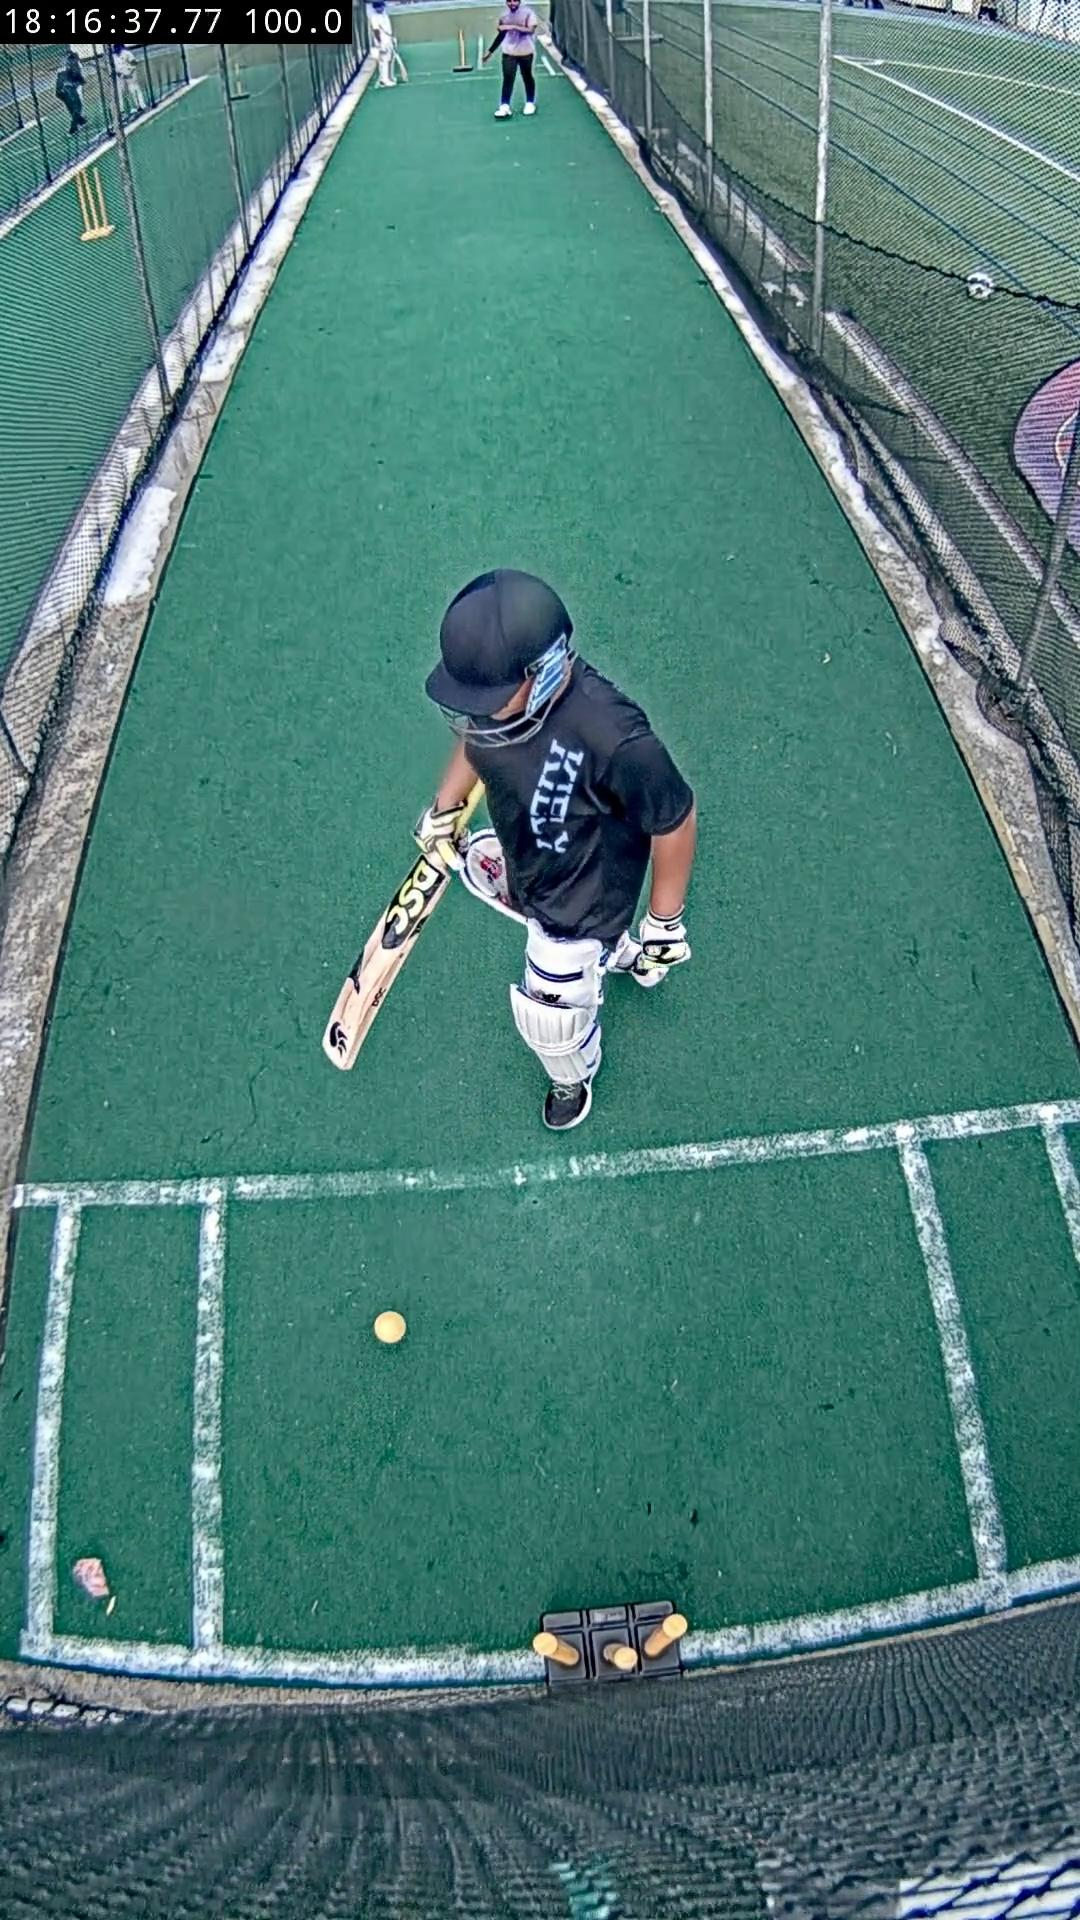ball: (375, 1312, 405, 1342)
bat: (323, 848, 450, 1068)
gloves: (641, 911, 690, 972), (413, 806, 458, 855), (443, 855, 454, 864)
helmet: (427, 566, 574, 746)
pads: (510, 986, 600, 1088), (454, 828, 529, 923)
stumps: (533, 1601, 686, 1685)
